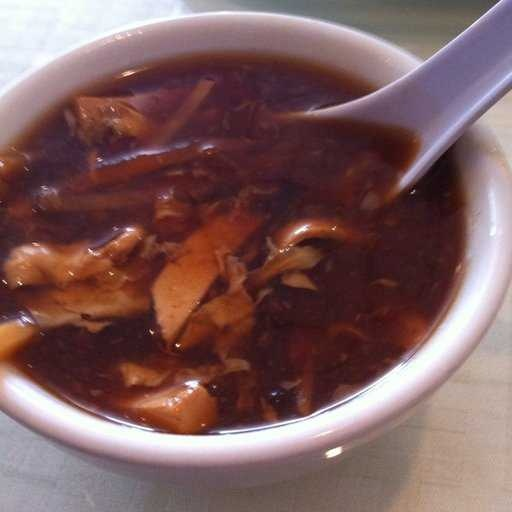soup: (14, 19, 485, 478)
